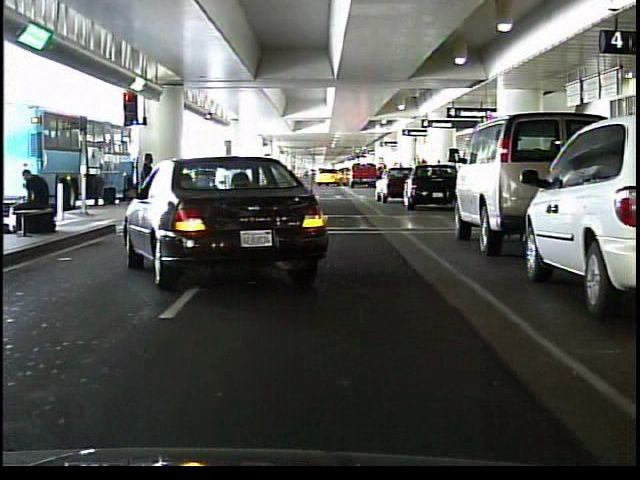person: (16, 165, 54, 241), (128, 150, 157, 231)
